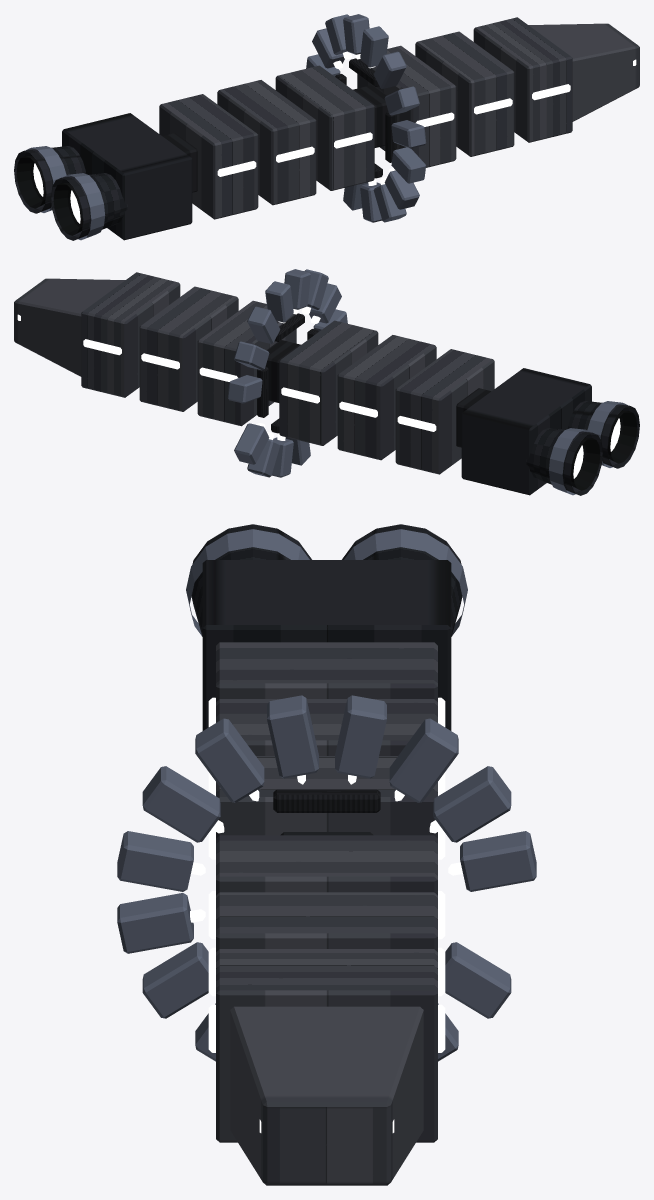
Rendered from hulk.glb.
3 renders of one model, top to bottom at view 1: azimuth 30°, elevation 25°; view 2: azimuth 150°, elevation 25°; view 3: azimuth 270°, elevation 25°, orthographic. The views are drawn at different scales.
Visible parts, largest first — view 1: hulk; view 2: hulk; view 3: hulk.
Boxes of the visible parts, x1=… form: hulk: x1=14, y1=14, x2=639, y2=240; hulk: x1=14, y1=269, x2=639, y2=495; hulk: x1=117, y1=524, x2=536, y2=1185.
Size of the model in its own units: 46 by 14.5 by 14.5.
Materials: 1 (1 with a texture image).
